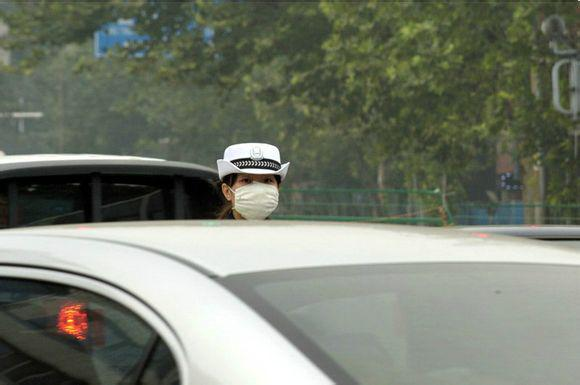OK: (238, 173, 281, 216)
